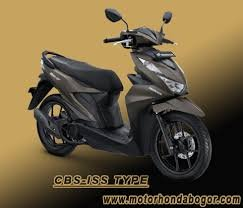motor: (27, 25, 218, 181)
